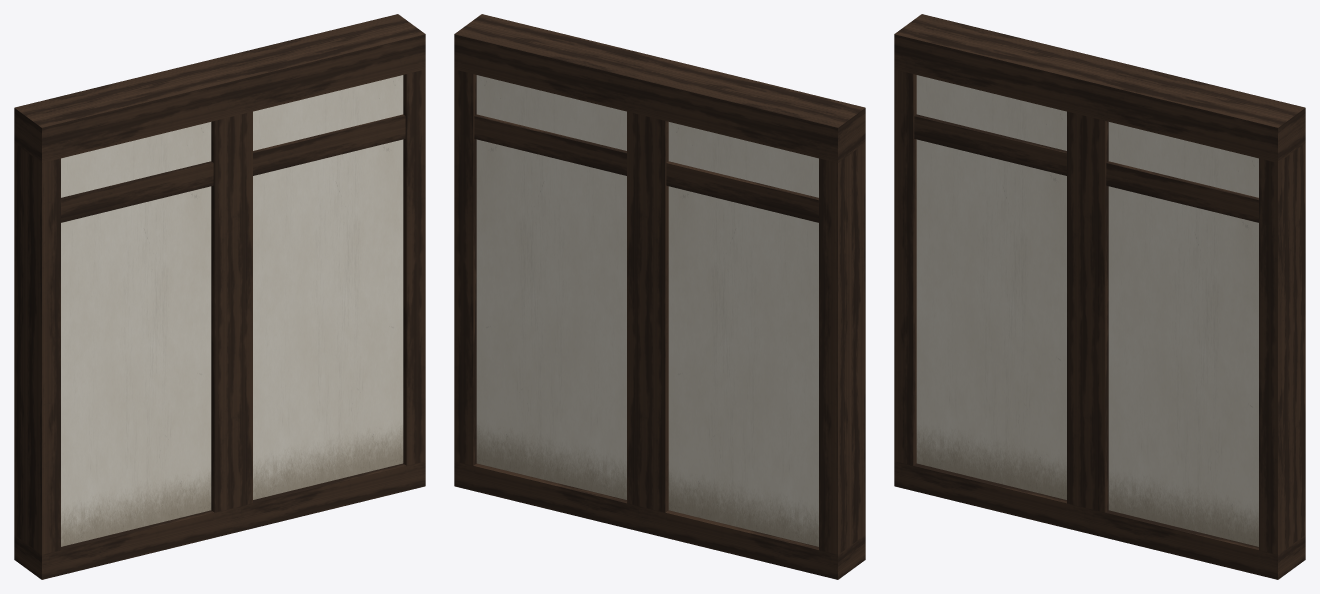
Rendered from HO_Wall_Plaster_Solid_8.fbx.
3 views of the same model, side by side, from view 1: azimuth 30°, elevation 25°; view 2: azimuth 150°, elevation 25°; view 3: azimuth 330°, elevation 25° (orthographic).
Visible parts, largest first — view 1: HO_Wall_Plaster_Solid_8__Plaster_White, HO_Wall_Plaster_Solid_8__Timber_Dark; view 2: HO_Wall_Plaster_Solid_8__Plaster_White, HO_Wall_Plaster_Solid_8__Timber_Dark; view 3: HO_Wall_Plaster_Solid_8__Plaster_White, HO_Wall_Plaster_Solid_8__Timber_Dark.
Part boxes in pixels (<box>): HO_Wall_Plaster_Solid_8__Plaster_White: <box>61,75,403,546</box>; HO_Wall_Plaster_Solid_8__Timber_Dark: <box>14,14,425,579</box>; HO_Wall_Plaster_Solid_8__Plaster_White: <box>476,75,818,546</box>; HO_Wall_Plaster_Solid_8__Timber_Dark: <box>454,14,865,579</box>; HO_Wall_Plaster_Solid_8__Plaster_White: <box>916,75,1258,546</box>; HO_Wall_Plaster_Solid_8__Timber_Dark: <box>894,14,1305,579</box>.
Bounding box in the file's own units: 8 × 9 × 1.
